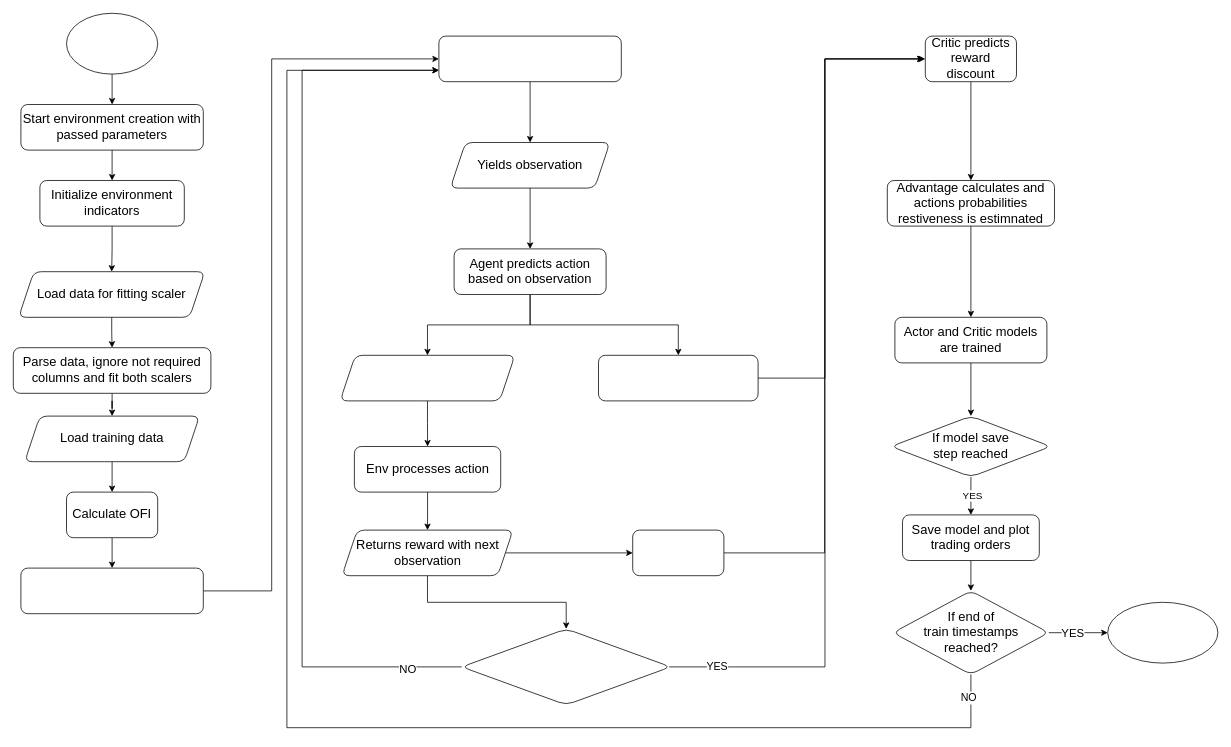
The diagram is 1231 pixels wide and 747 high, and some of its shapes have lost their labels. The shapes that lost their labels are listed below. From the top down, each one's box as (x1, y1, x2, y2) in pixels, then its label:
(66, 13, 158, 74): Start
(438, 35, 621, 82): Reset environment
(339, 355, 515, 401): Outputs action to env
(598, 355, 758, 401): Saves action and observation to batch
(632, 529, 724, 576): Saves reward to batch
(20, 567, 203, 614): Scale, transform and save training data
(1107, 602, 1218, 663): END
(461, 628, 671, 705): is batch limit reached?
